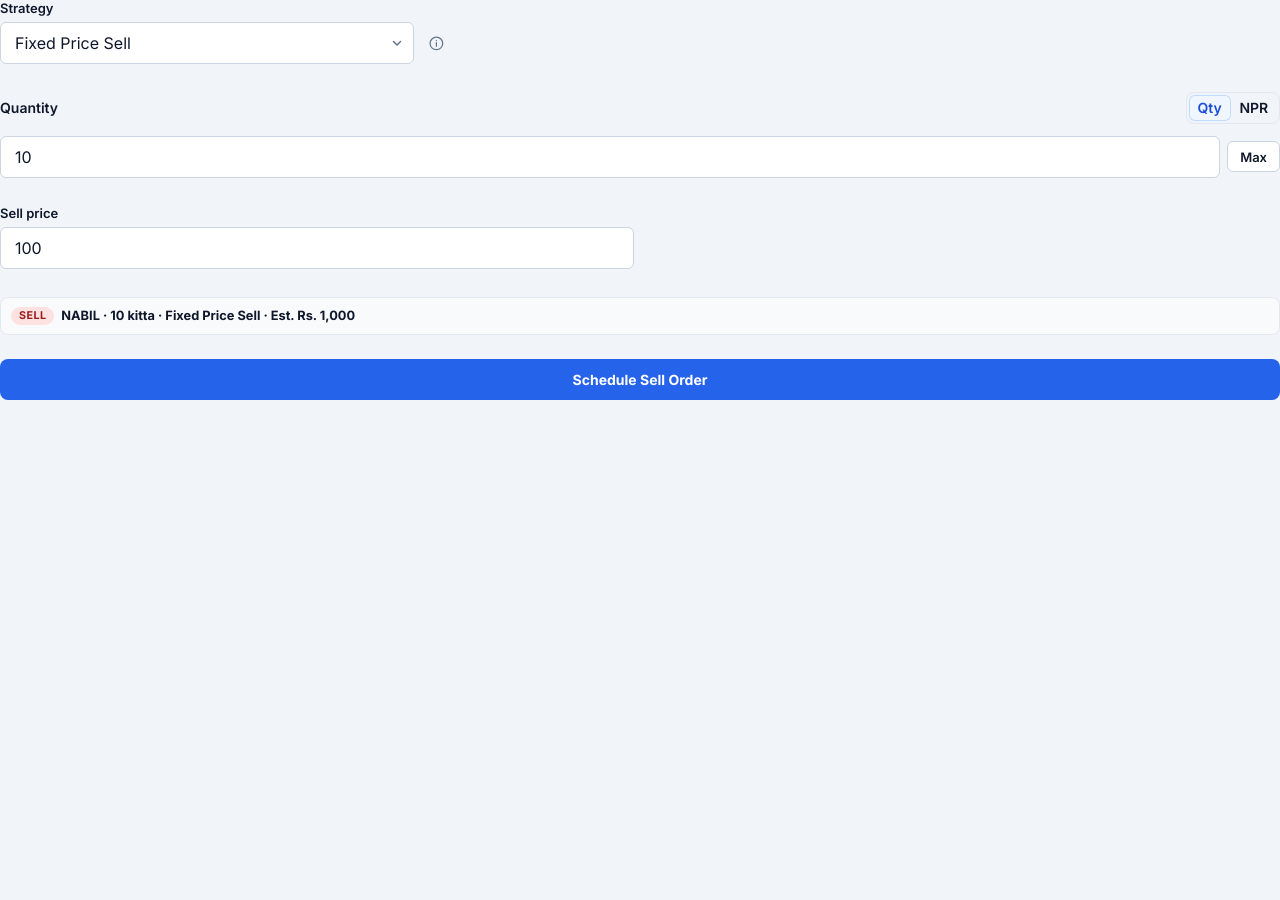
it: StrategySellForm › Show details opens strategy guide modal
Click the button named "Strategy details" at (436, 43), box [422, 29, 450, 57]
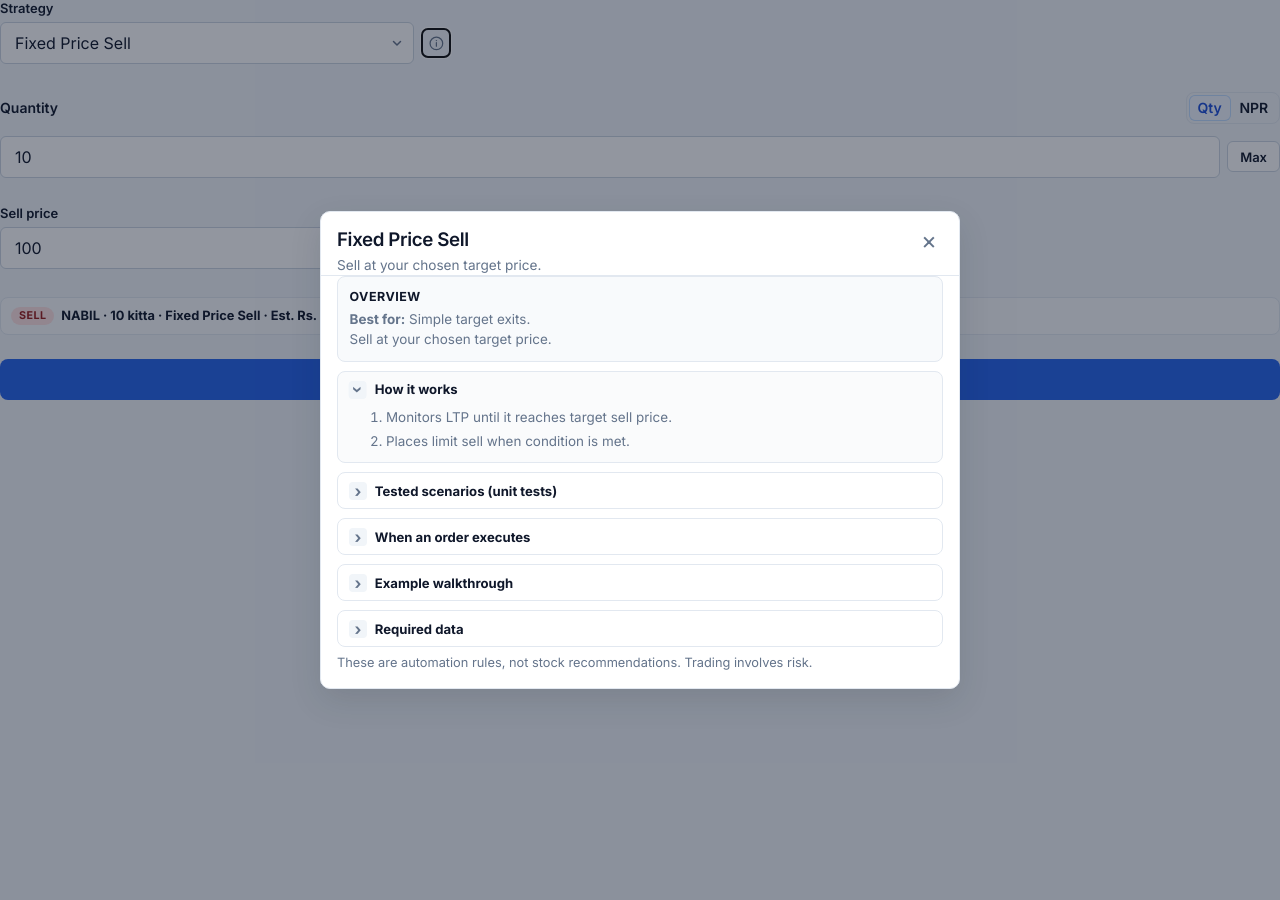
Now the dialog shows "Fixed Price Sell", box [337, 228, 469, 251]
Now the dialog shows "Tested scenarios", box [375, 483, 557, 499]
